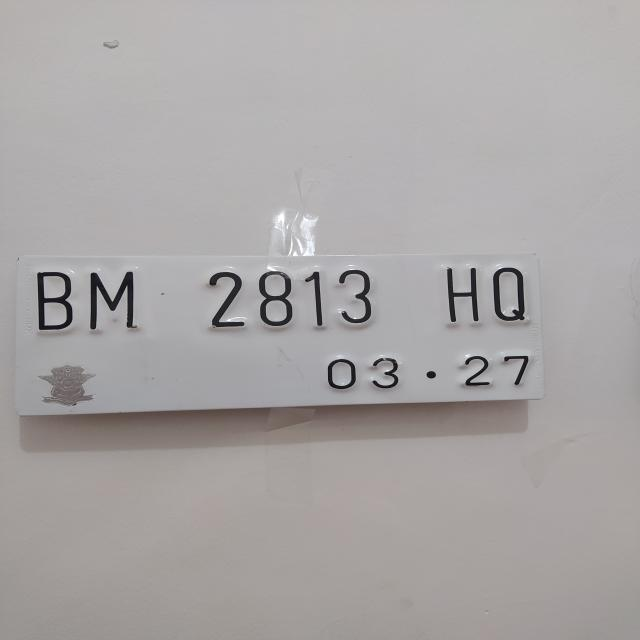plate: (18, 251, 545, 415)
